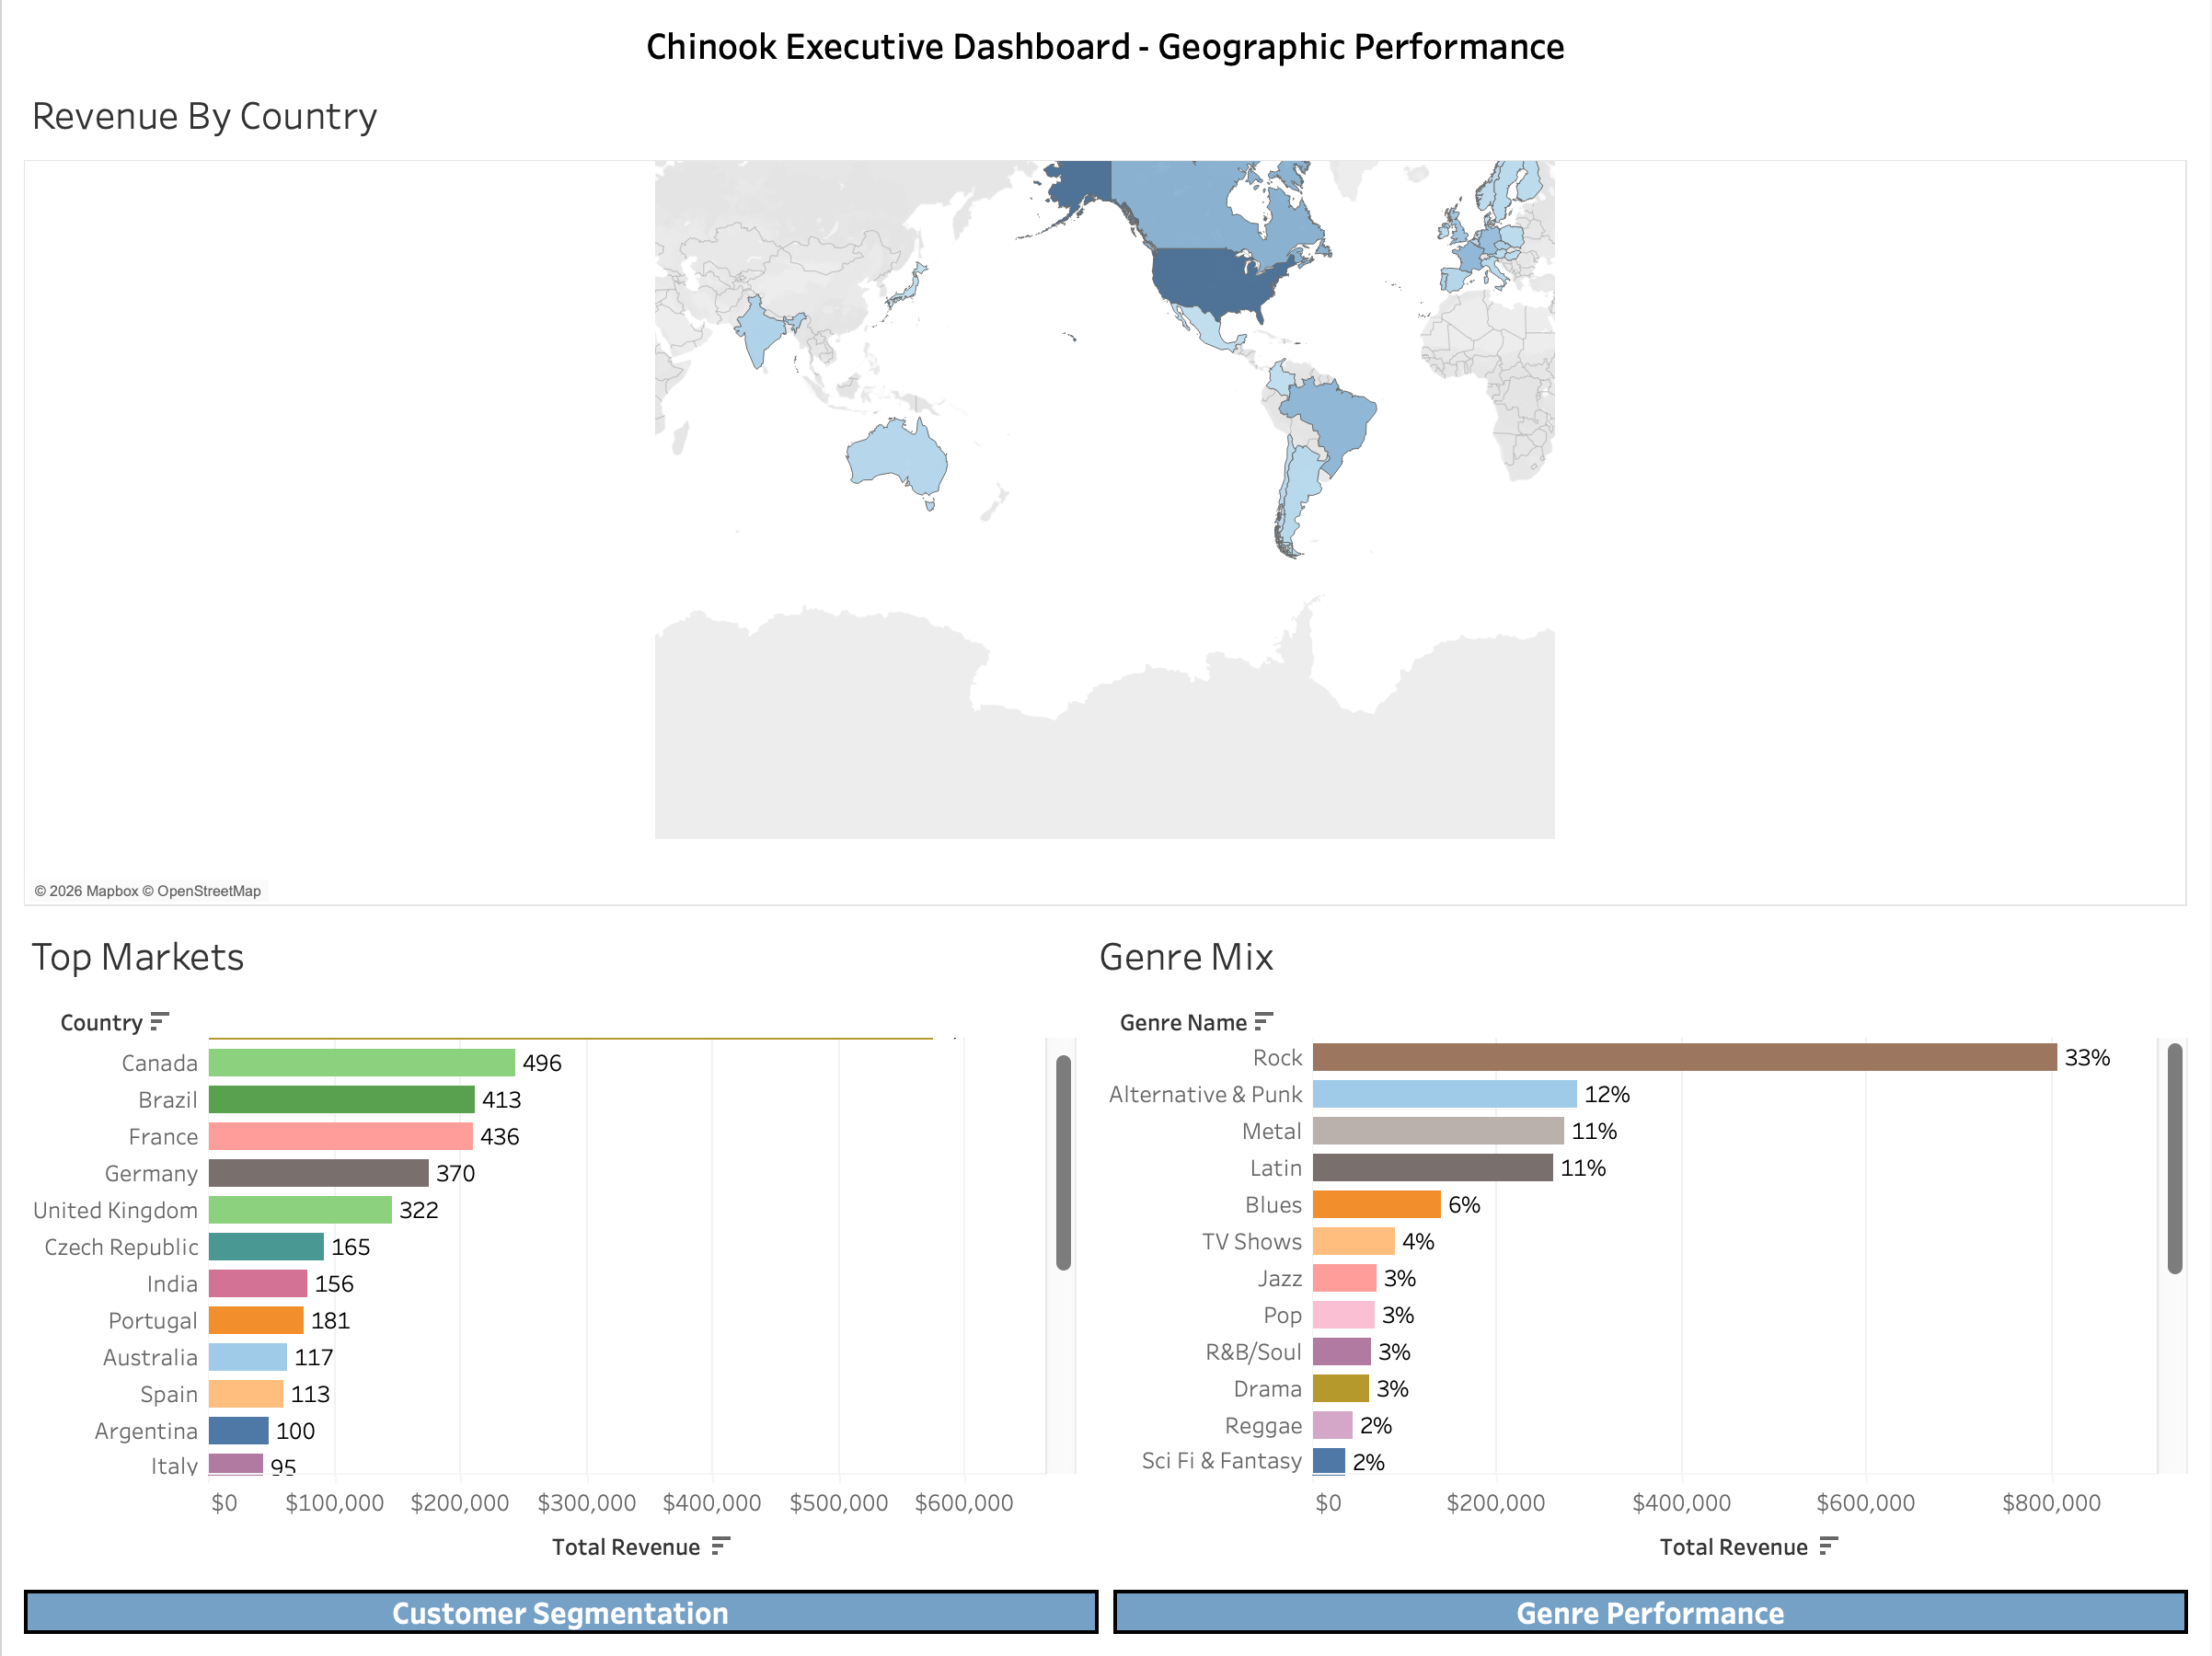

Layout of this report page (visuals, bound fields, positions):
{"tool":"tableau","page":{"name":"Geographic Performance","canvas":[1200,900],"ordinal":2},"visuals":[{"type":"text","box":[8,8,1184,32]},{"type":"worksheet","title":"Revenue By Country","mark":"Multipolygon","box":[8,40,1184,457]},{"type":"worksheet","title":"Top Markets","mark":"Automatic","rows":["Country"],"cols":["InvoiceTotal"],"box":[8,497,580,363]},{"type":"worksheet","title":"Genre Mix","mark":"Automatic","rows":["GenreName"],"cols":["InvoiceTotal"],"box":[588,497,604,363]},{"type":"dashboard-object","box":[8,860,592,32]},{"type":"dashboard-object","box":[600,860,592,32]}]}

Visuals, with their boxes in screenshot pixels (x1, y1, x2, y2), scaled from the page's 1200x900 canvas onto the 2212x1656 screenshot:
text: bbox=[15, 15, 2197, 74]
"Revenue By Country" worksheet (Multipolygon marks): bbox=[15, 74, 2197, 914]
"Top Markets" worksheet: bbox=[15, 914, 1084, 1582]
"Genre Mix" worksheet: bbox=[1084, 914, 2197, 1582]
dashboard-object: bbox=[15, 1582, 1106, 1641]
dashboard-object: bbox=[1106, 1582, 2197, 1641]
